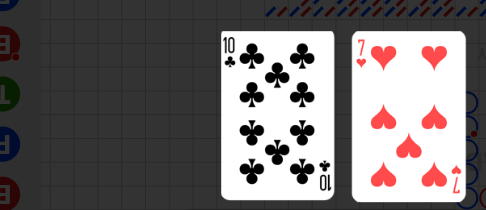10C: (223, 35, 238, 70)
7H: (450, 163, 462, 195)
